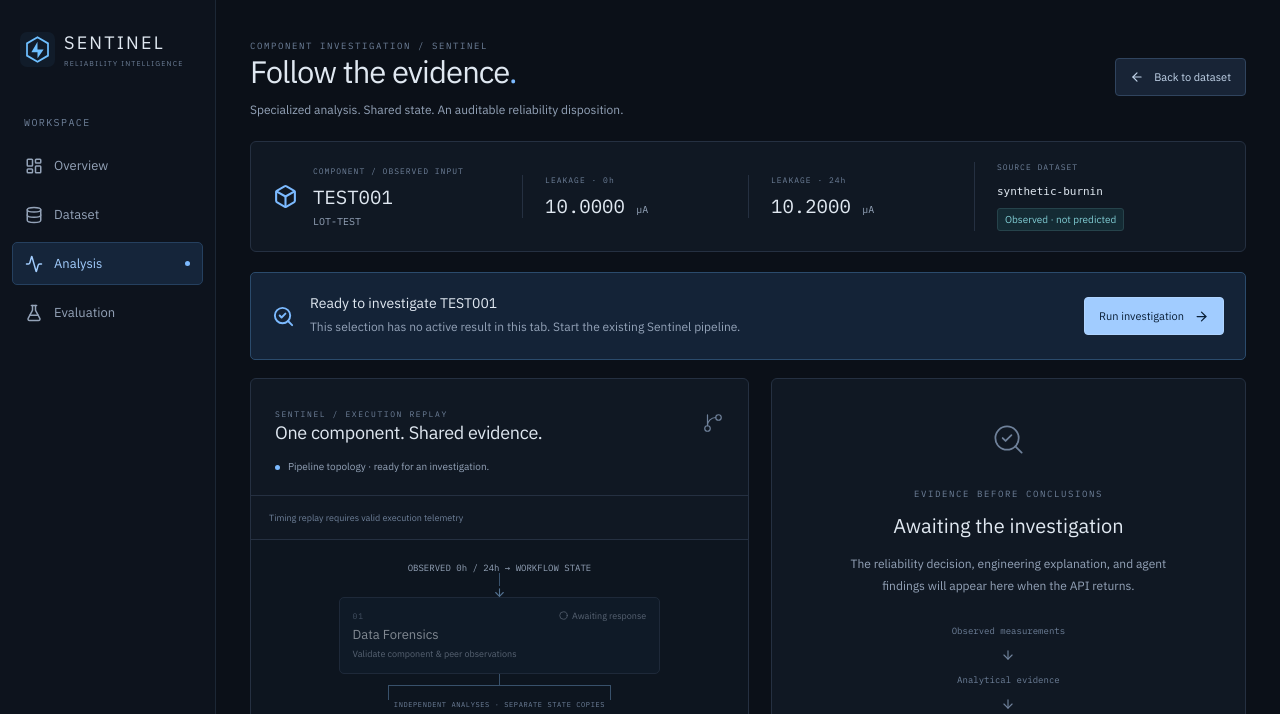
Test: Investigation workspace › shows API failure without a fabricated result, then retries successfully
This screenshot has width=1280, height=714.
(page scrolled)
Click the button "Run investigation": (1154,316) [1084,297,1224,335]
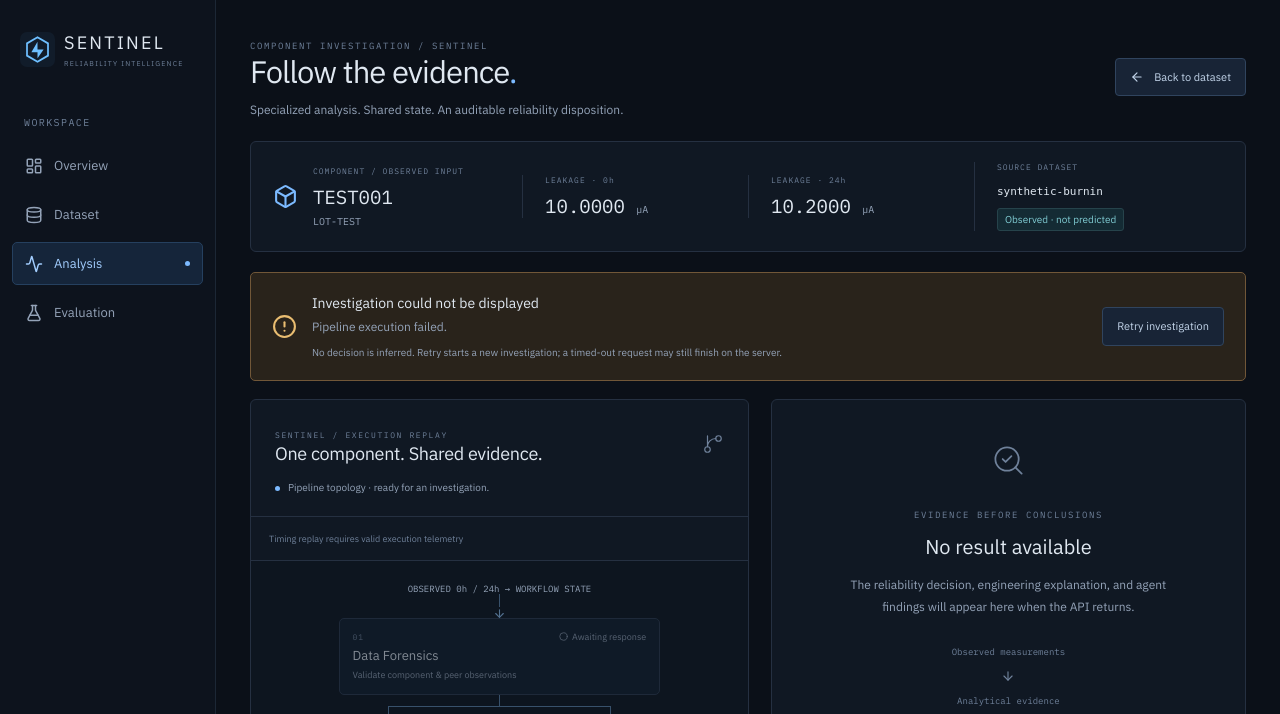
Check: the message shows "Pipeline execution failed.", box [312,319,447,334]
Click the button "Retry investigation": (1163,327) [1102,307,1224,346]
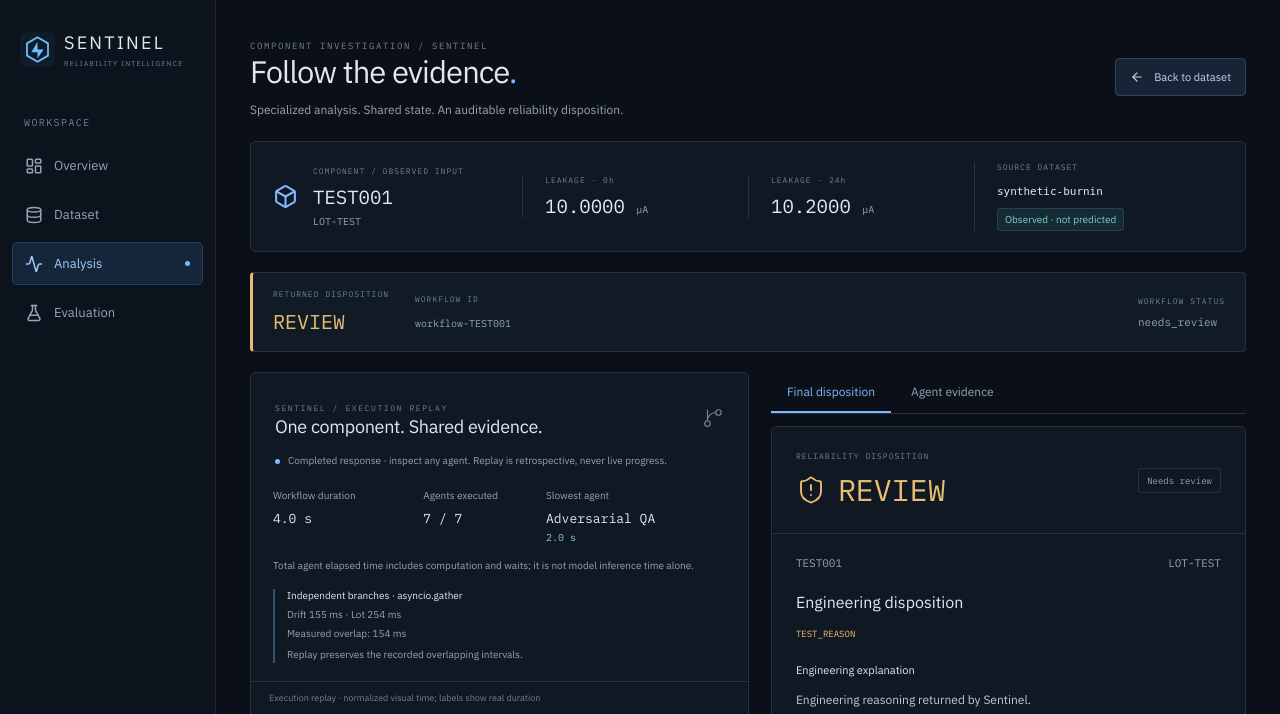
Check: the heading "REVIEW" is shown, box [796,470,946,509]
